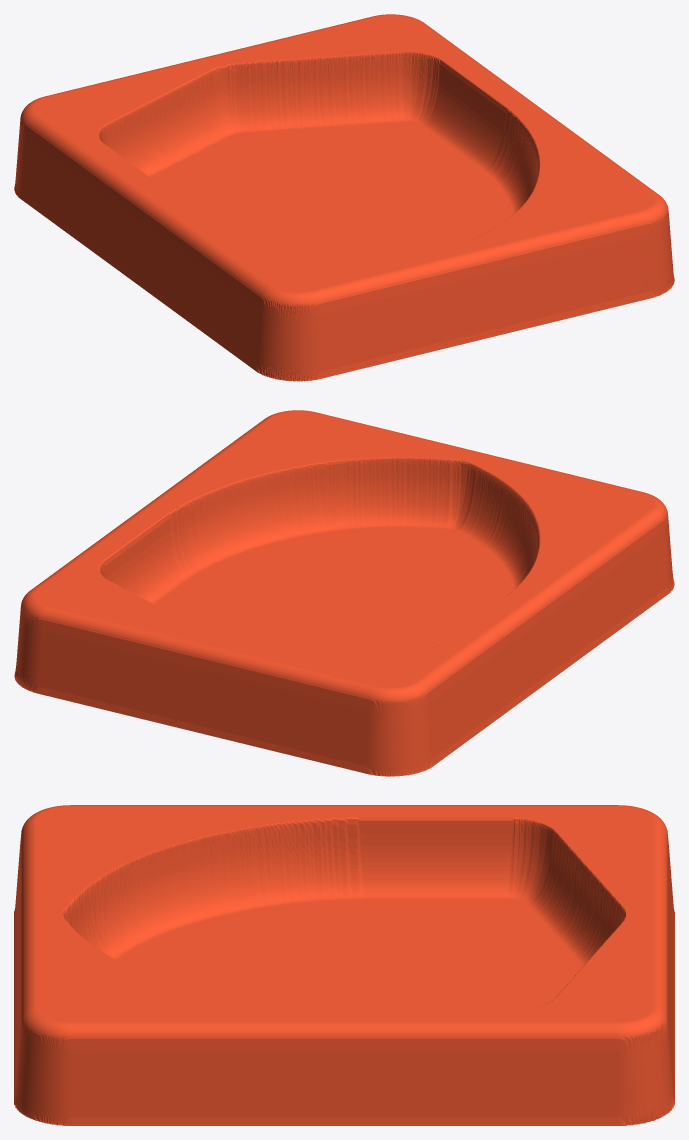
File: mold.glb
The picture shows the model from 3 angles, top to bottom: view 1: azimuth 30°, elevation 25°; view 2: azimuth 150°, elevation 25°; view 3: azimuth 270°, elevation 25°; orthographic projection. The views are drawn at different scales.
Visible parts, largest first — view 1: geometry_0; view 2: geometry_0; view 3: geometry_0.
Part boxes in pixels (<box>): geometry_0: <box>14,14,674,381</box>; geometry_0: <box>14,410,674,776</box>; geometry_0: <box>14,805,674,1125</box>.
Size of the model in its own units: 0.0882 by 0.0165 by 0.105.
